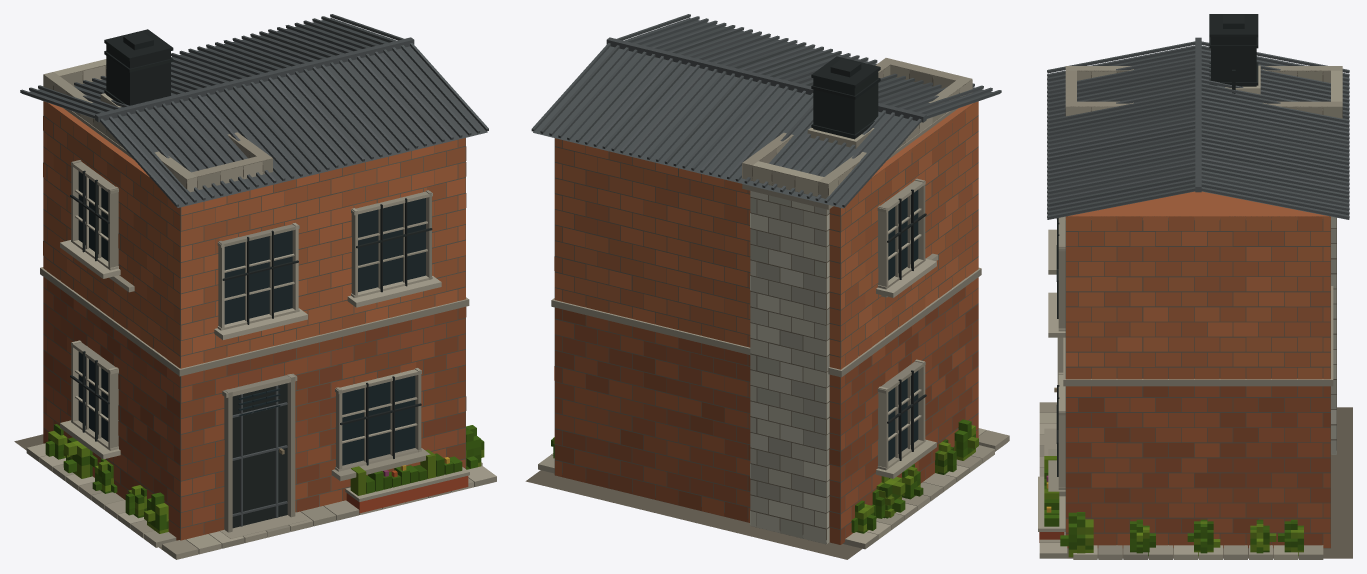
Rendered from SM_Mapa_073.fbx.
3 renders of one model, left to right at view 1: azimuth 30°, elevation 25°; view 2: azimuth 150°, elevation 25°; view 3: azimuth 270°, elevation 25°, orthographic. The views are drawn at different scales.
Visible parts, largest first — view 1: SM_Mapa_073; view 2: SM_Mapa_073; view 3: SM_Mapa_073.
Boxes of the visible parts, x1,y1,x2,y2 form: SM_Mapa_073: [14, 14, 496, 559]; SM_Mapa_073: [525, 14, 1009, 559]; SM_Mapa_073: [1038, 14, 1352, 559].
Bounding box in the file's own units: 8 × 6.84 × 10.02.
